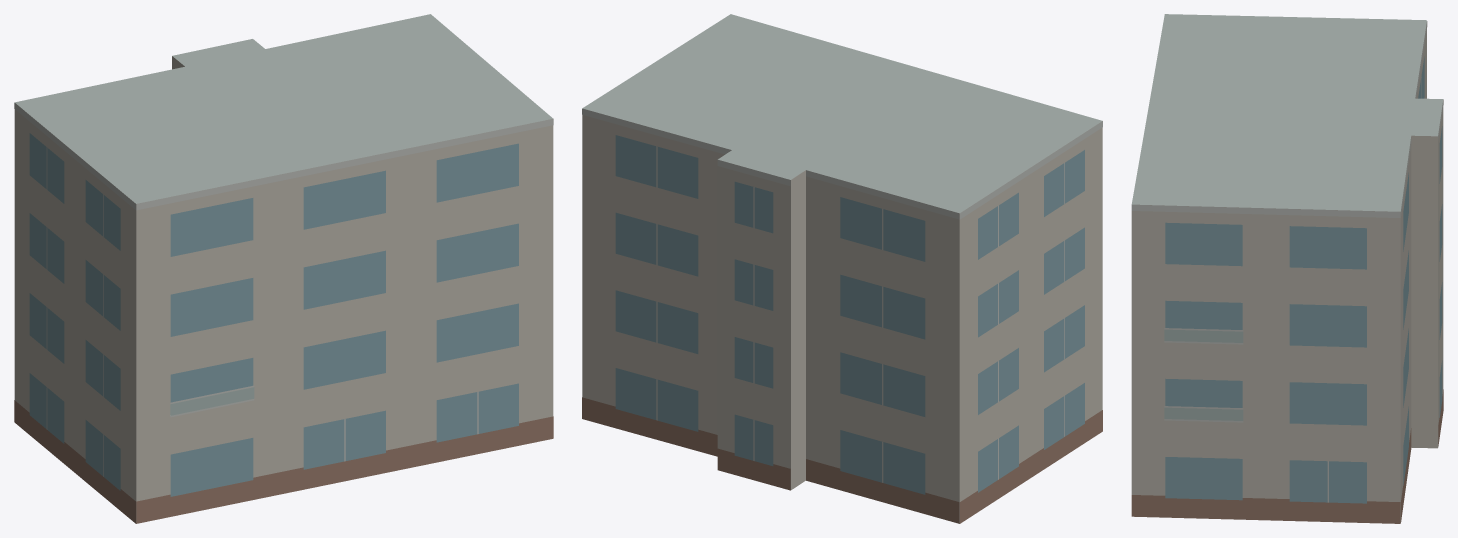
The model's file is survey-upis-32802993.glb.
3 renders of one model, left to right at view 1: azimuth 30°, elevation 25°; view 2: azimuth 150°, elevation 25°; view 3: azimuth 270°, elevation 25°, orthographic. The views are drawn at different scales.
Visible parts, largest first — view 1: survey-upis-32802993.tmp; view 2: survey-upis-32802993.tmp; view 3: survey-upis-32802993.tmp.
Part boxes in pixels (x1,y1,x2,y2): survey-upis-32802993.tmp: (14, 14, 553, 523); survey-upis-32802993.tmp: (582, 14, 1102, 523); survey-upis-32802993.tmp: (1131, 14, 1443, 523).
Bounding box in the file's own units: 16.32 × 12 × 10.87.
